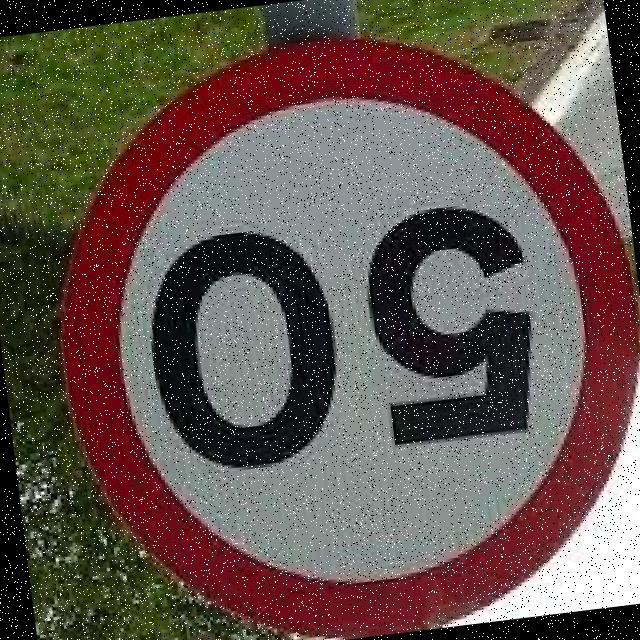speed_limit_50: (21, 5, 640, 640)
